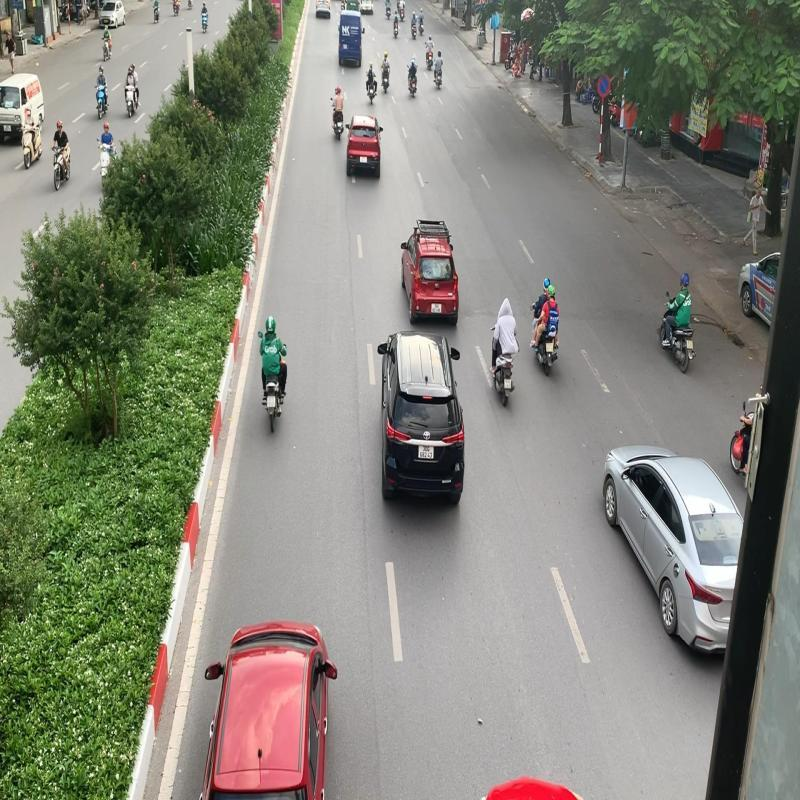helmet: (266, 316, 276, 331), (681, 274, 690, 289), (543, 280, 551, 290), (548, 286, 554, 298)
licenseplate: (266, 397, 276, 408), (545, 344, 554, 353), (687, 340, 694, 351)
motorcyclist: (256, 315, 288, 435), (659, 272, 696, 374), (530, 278, 564, 379)
